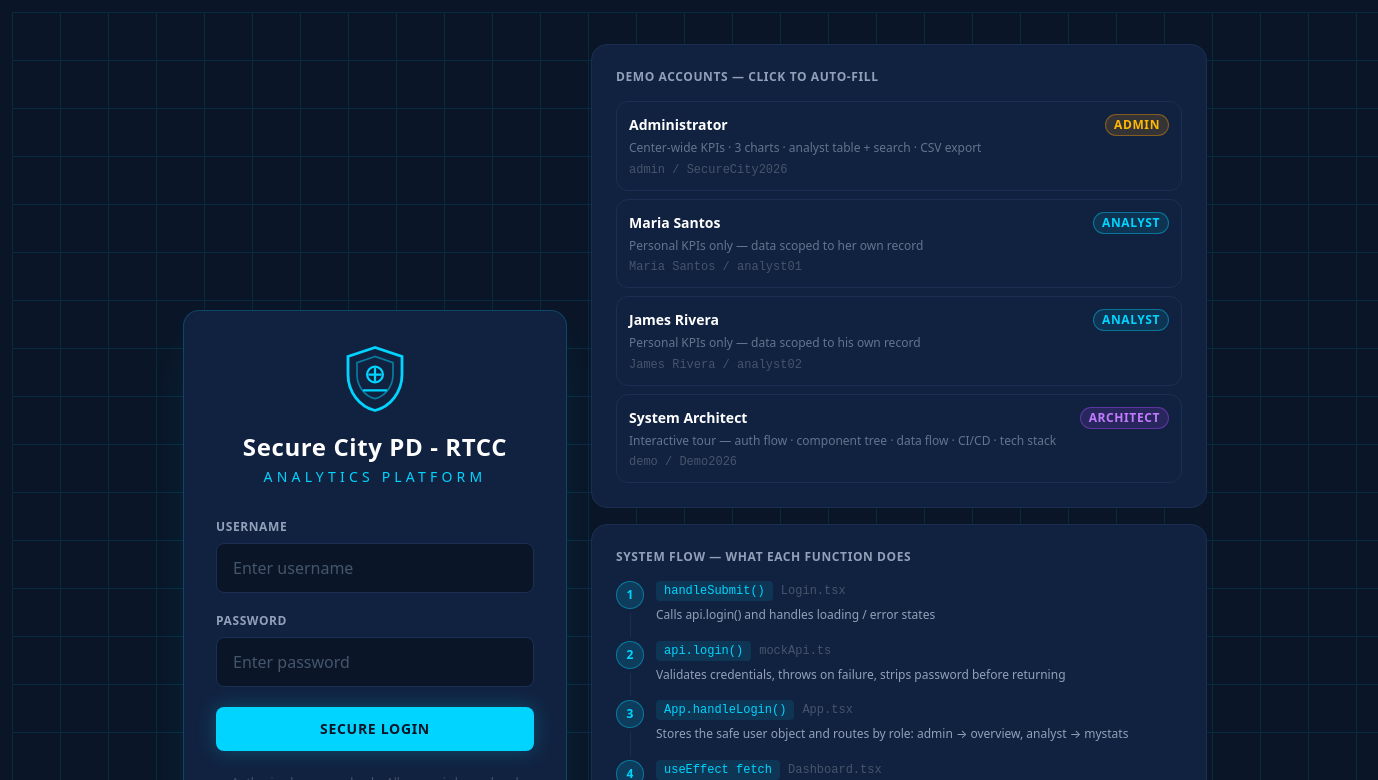
it: App role-based routing › logout returns to the login screen
The width and height of the screenshot is (1378, 780).
Type "Maria Santos" into the field labelled "Username" at x=375, y=568, box [216, 542, 534, 592]
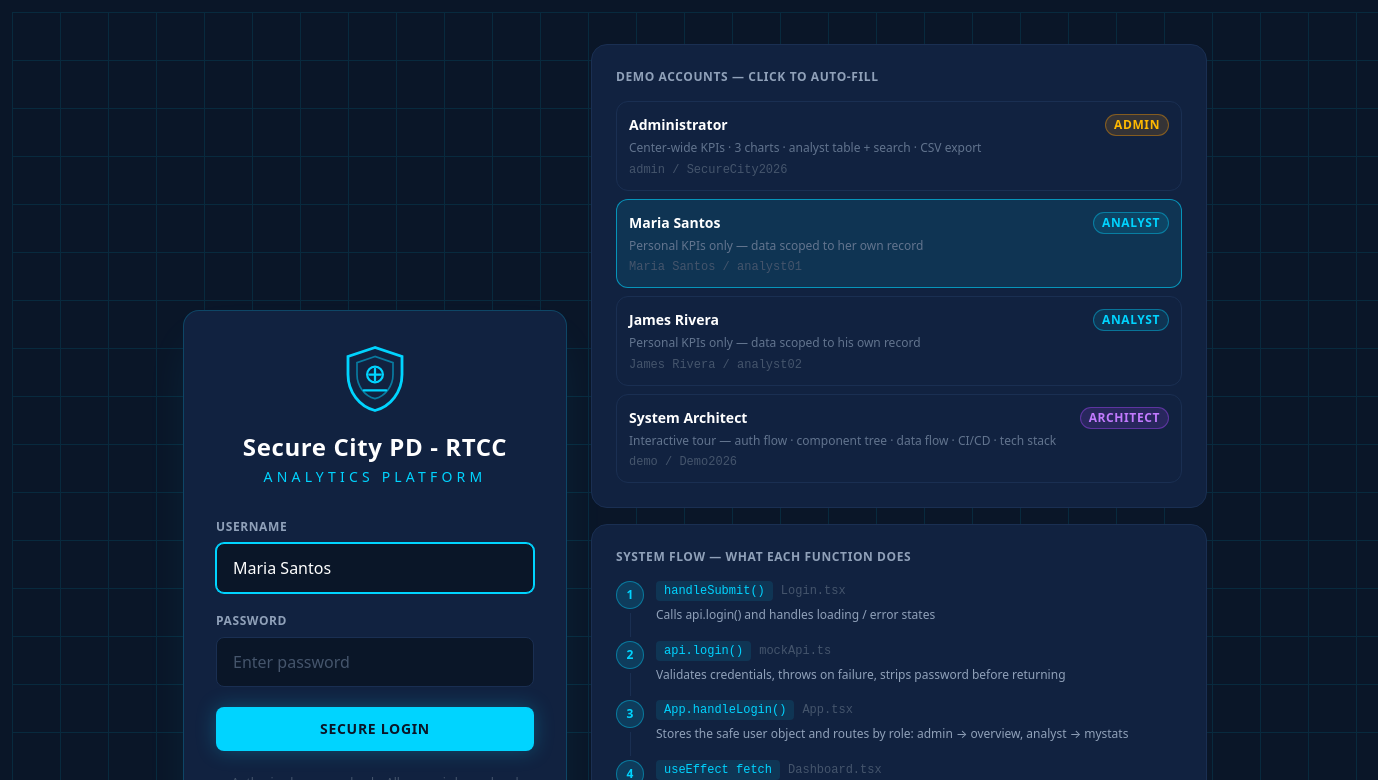
Type "analyst01" into the password field labelled "Password" at x=375, y=662, box [216, 636, 534, 686]
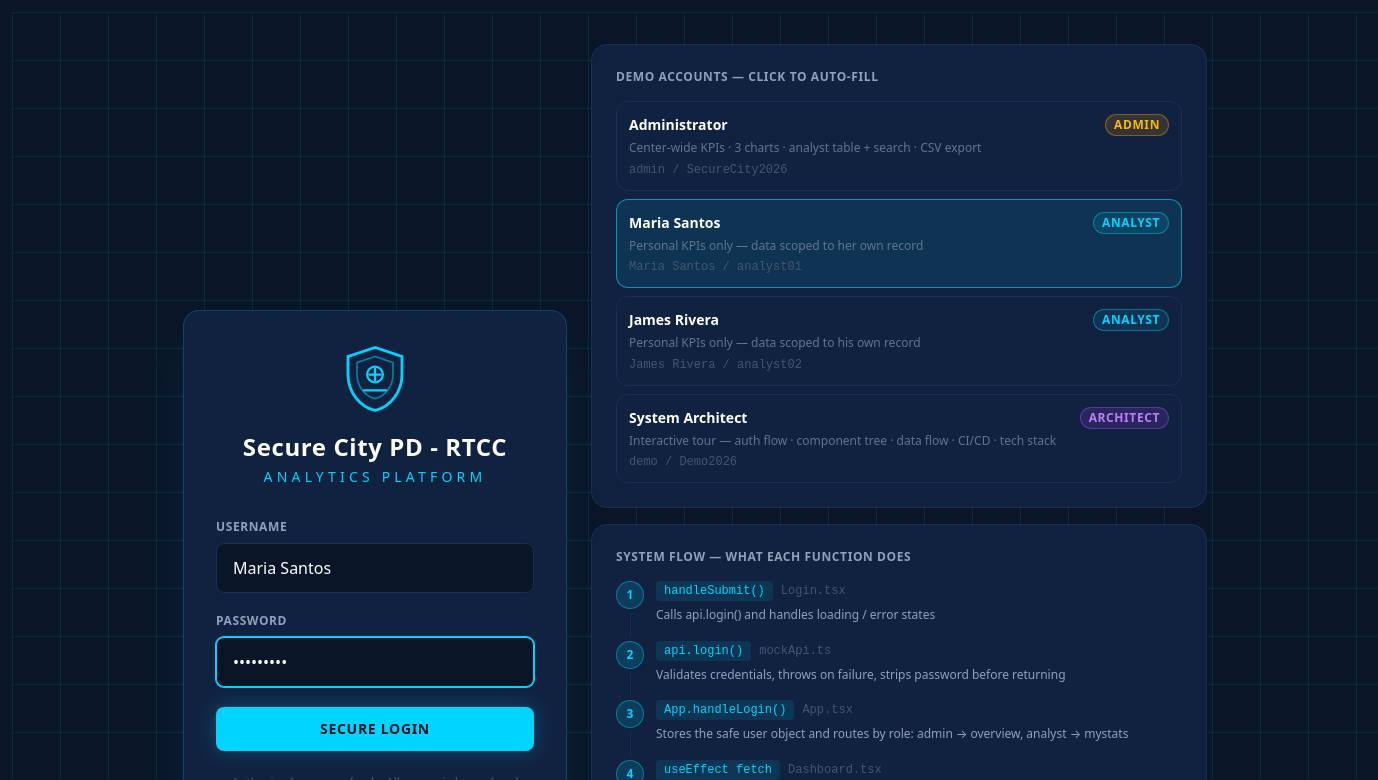
Click the button "Secure Login" at x=375, y=728, box [216, 706, 534, 750]
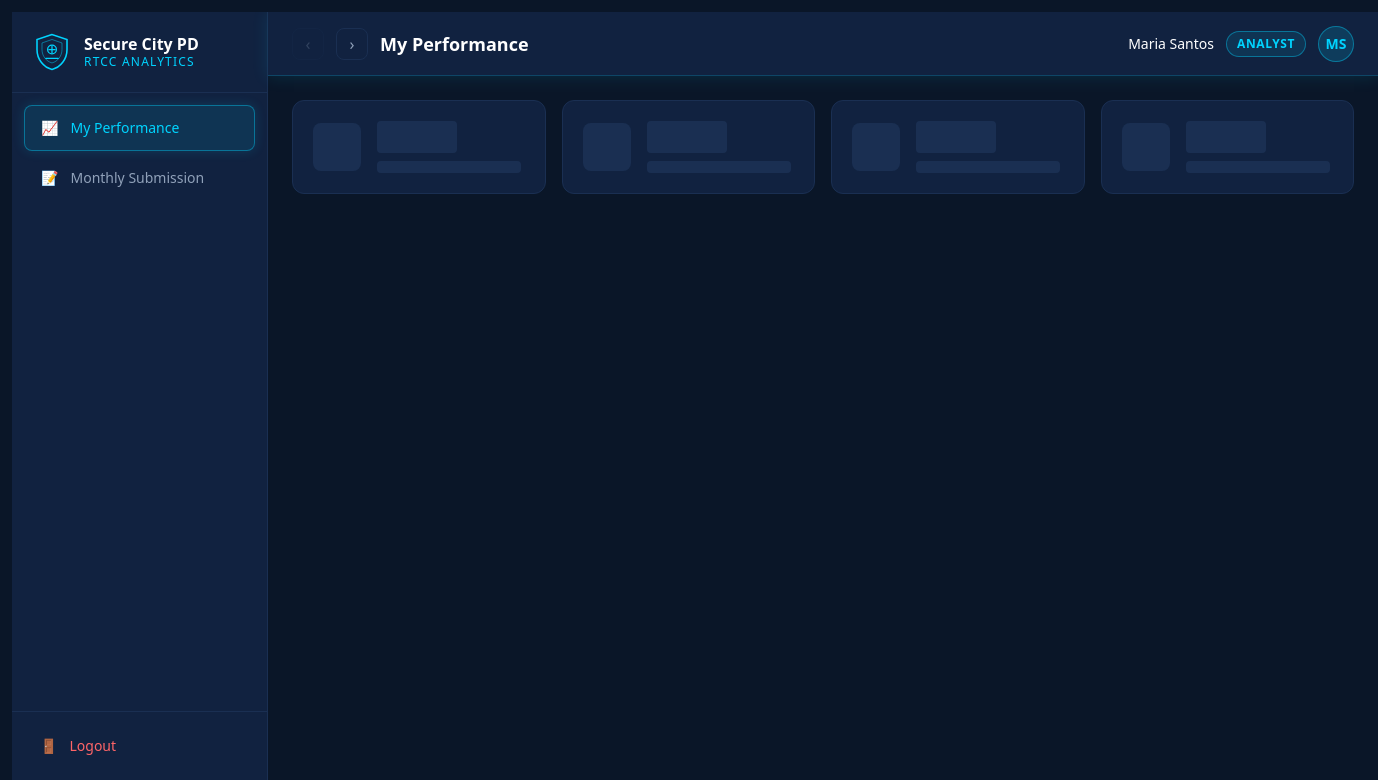
Check: the heading "My Performance" is shown, box [380, 30, 529, 58]
Click the button "🚪 Logout" at x=140, y=746, box [24, 724, 255, 768]
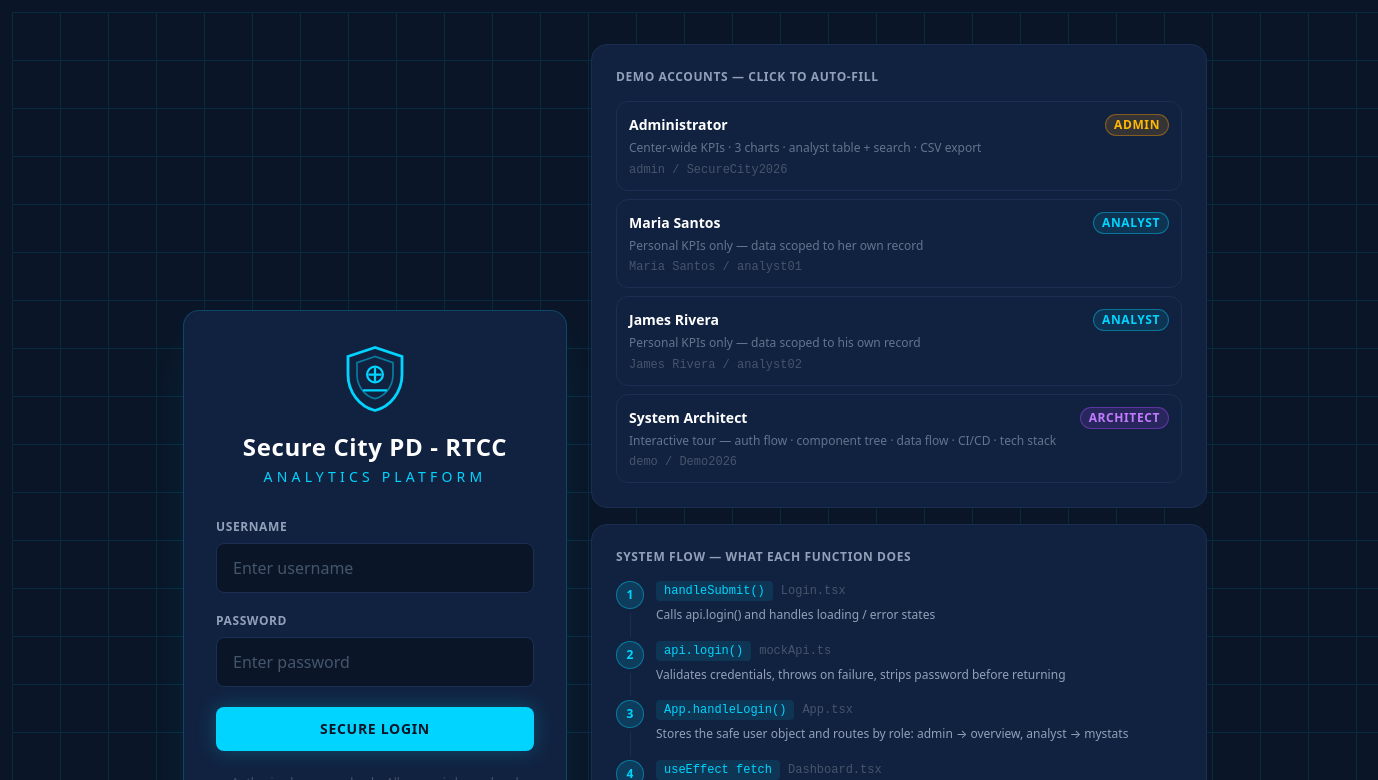
Check: the button "Secure Login" is shown, box [216, 706, 534, 750]
Check: the button "My Performance" is gone
